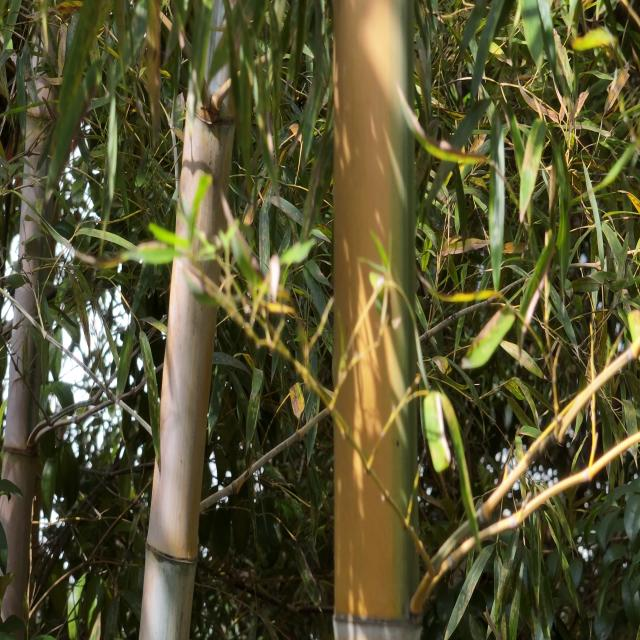Bamboo-shoots: (137, 0, 241, 640)
